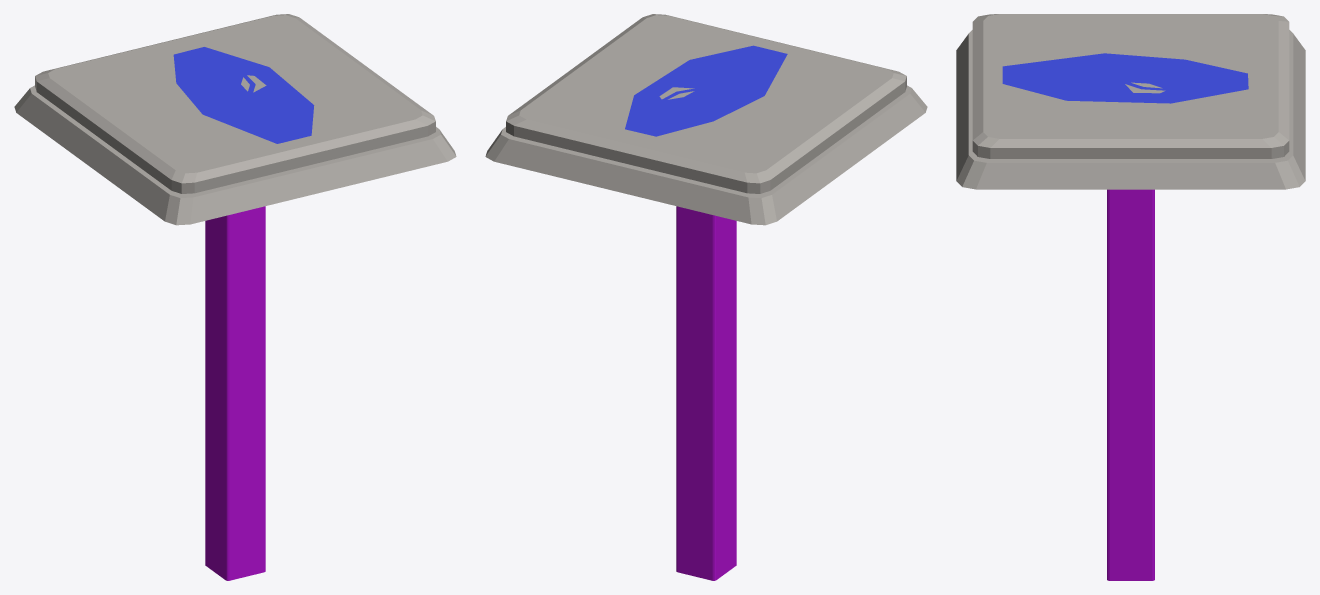
File: steady_platform2.fbx
3 renders of one model, left to right at view 1: azimuth 30°, elevation 25°; view 2: azimuth 150°, elevation 25°; view 3: azimuth 270°, elevation 25°, orthographic. The views are drawn at different scales.
Parts seen in each view (by area): view 1: steady_platform.002, steady_platform.001; view 2: steady_platform.002, steady_platform.001; view 3: steady_platform.002, steady_platform.001.
Boxes of the visible parts, left/top/right/bottom form: steady_platform.002: left=35, top=14, right=435, bottom=580; steady_platform.001: left=14, top=85, right=456, bottom=225; steady_platform.002: left=506, top=14, right=906, bottom=580; steady_platform.001: left=485, top=85, right=927, bottom=225; steady_platform.002: left=972, top=14, right=1289, bottom=580; steady_platform.001: left=956, top=30, right=1305, bottom=189.
Bounding box in the file's own units: 10.17 × 15.9 × 10.17.
